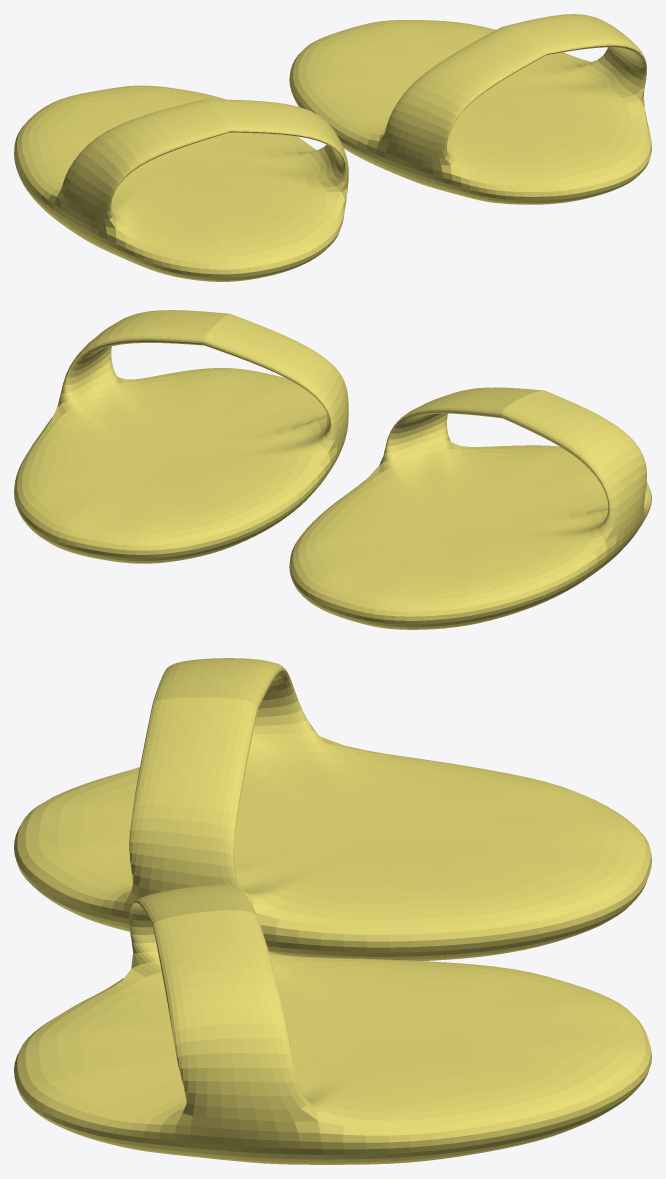
File: Shoes3.fbx
3 renders of one model, top to bottom at view 1: azimuth 30°, elevation 25°; view 2: azimuth 150°, elevation 25°; view 3: azimuth 270°, elevation 25°, orthographic. The views are drawn at different scales.
Parts seen in each view (by area): view 1: Cylinder.079, Cylinder.082; view 2: Cylinder.079, Cylinder.082; view 3: Cylinder.079, Cylinder.082.
Boxes of the visible parts, <box> form: Cylinder.079: <box>289,14,651,204</box>; Cylinder.082: <box>14,85,348,281</box>; Cylinder.079: <box>14,310,348,563</box>; Cylinder.082: <box>289,387,651,629</box>; Cylinder.079: <box>14,885,651,1164</box>; Cylinder.082: <box>14,658,651,960</box>.
Size of the model in its own units: 92.76 by 63.92 by 22.62.
